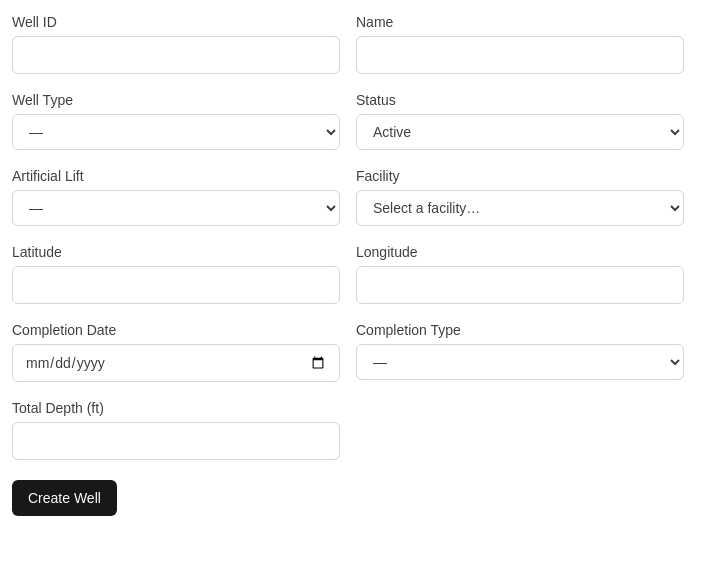
WellForm › shows validation errors when required fields are missing
Click the button "Create Well".
click(64, 498)  # box x1=12 y1=480 x2=117 y2=516
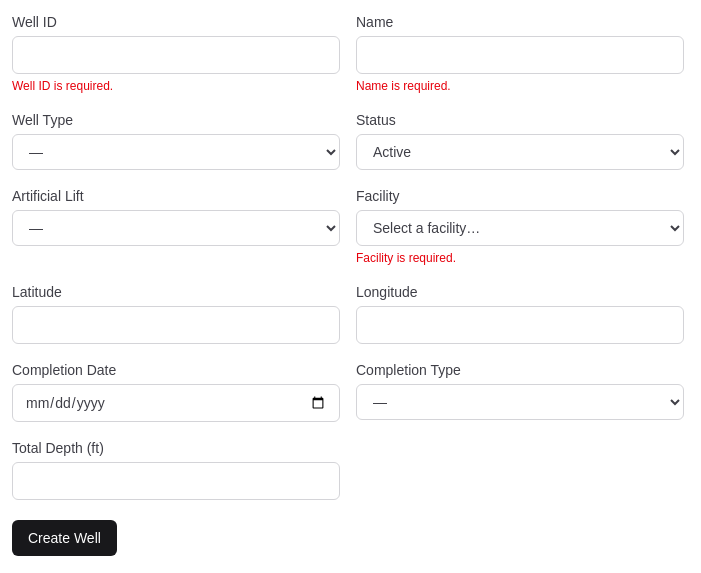
Now the text "Well ID is required." is shown, box x1=12 y1=79 x2=113 y2=93
Now the text "Name is required." is shown, box x1=356 y1=79 x2=451 y2=93
Now the text "Facility is required." is shown, box x1=356 y1=251 x2=456 y2=265
